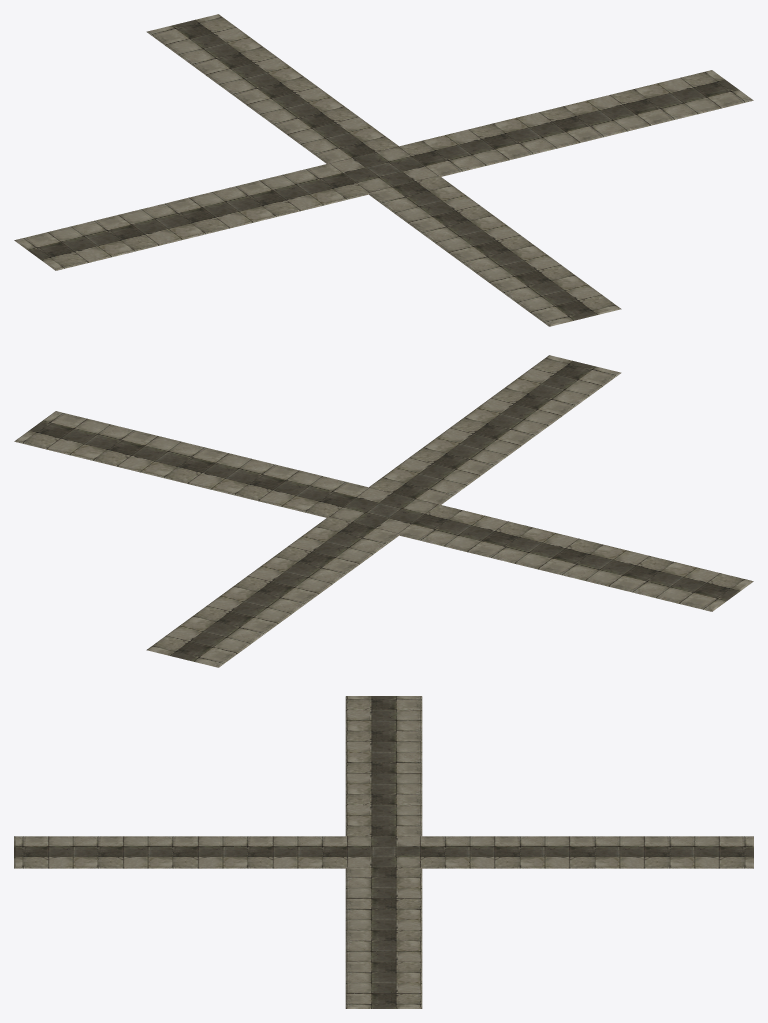
Rendered from DN_lv4bossbrick.FBX.
The picture shows the model from 3 angles, top to bottom: view 1: azimuth 30°, elevation 25°; view 2: azimuth 150°, elevation 25°; view 3: azimuth 270°, elevation 25°; orthographic projection. The views are drawn at different scales.
Parts seen in each view (by area): view 1: DN_lv4bossbrick; view 2: DN_lv4bossbrick; view 3: DN_lv4bossbrick.
Part boxes in pixels (x1,y1,x2,y2): DN_lv4bossbrick: (14,14,753,326); DN_lv4bossbrick: (14,355,753,667); DN_lv4bossbrick: (14,696,753,1008).
Size of the model in its own units: 5021 by 6 by 5021.
